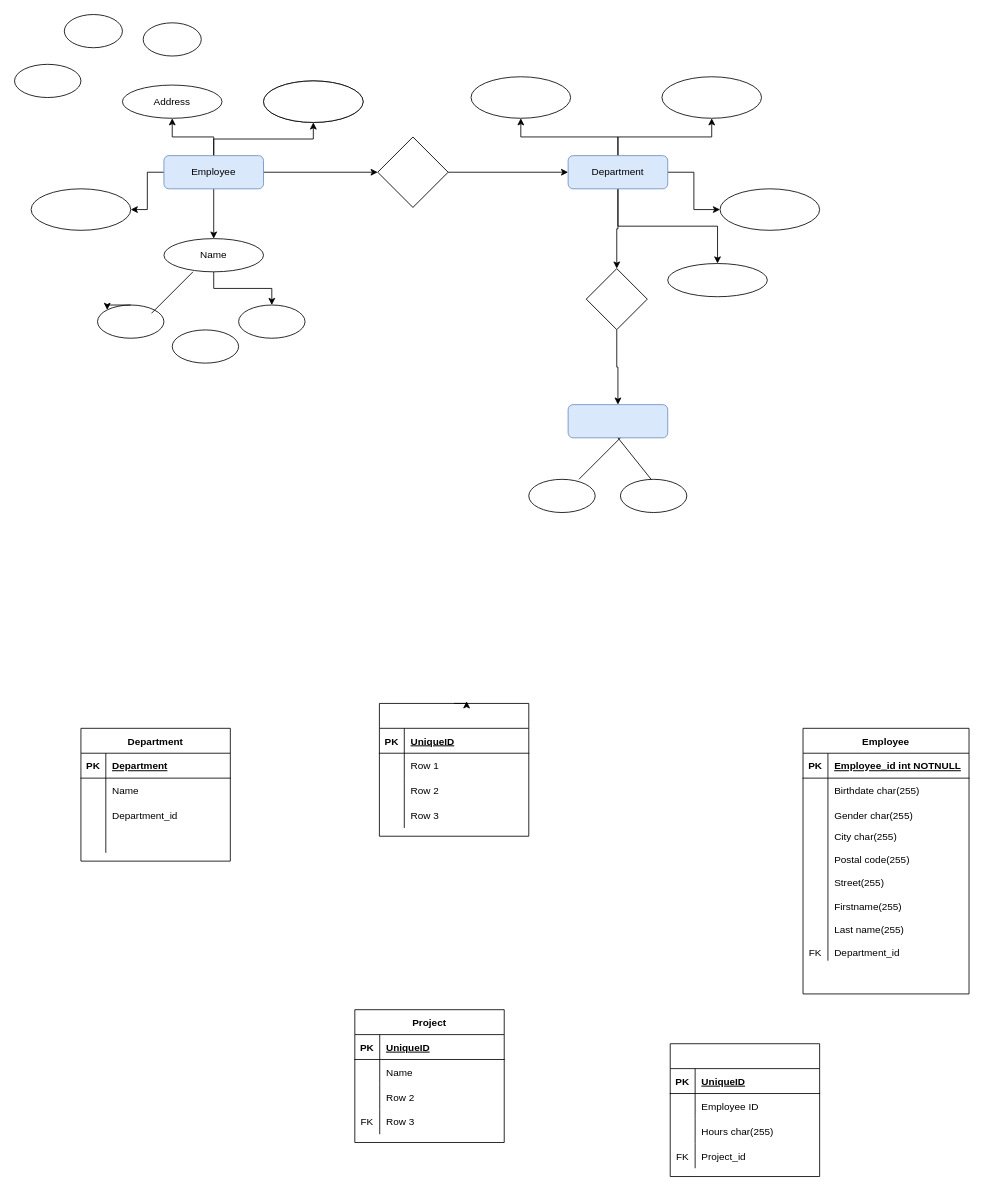
This 984x1191 diagram has some shape labels left out. Each missing label, with the box of its shape:
Location: (379, 703, 529, 836)
Projects: (567, 404, 668, 438)
Table: (669, 1043, 820, 1177)
